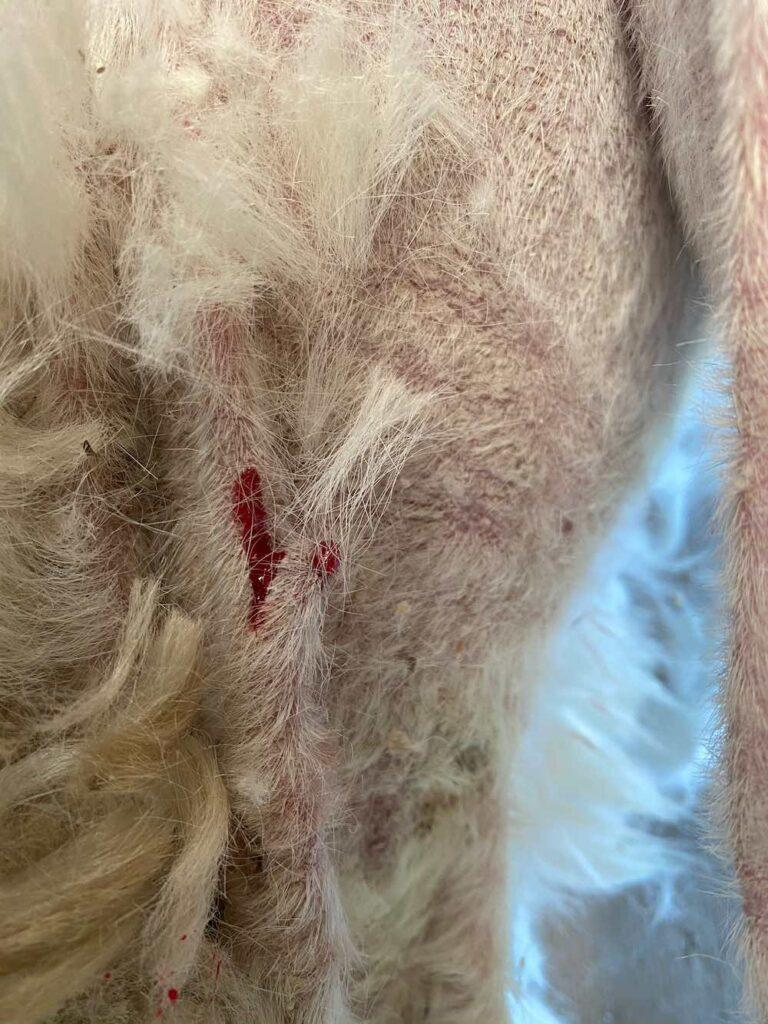cut: (164, 396, 379, 727)
